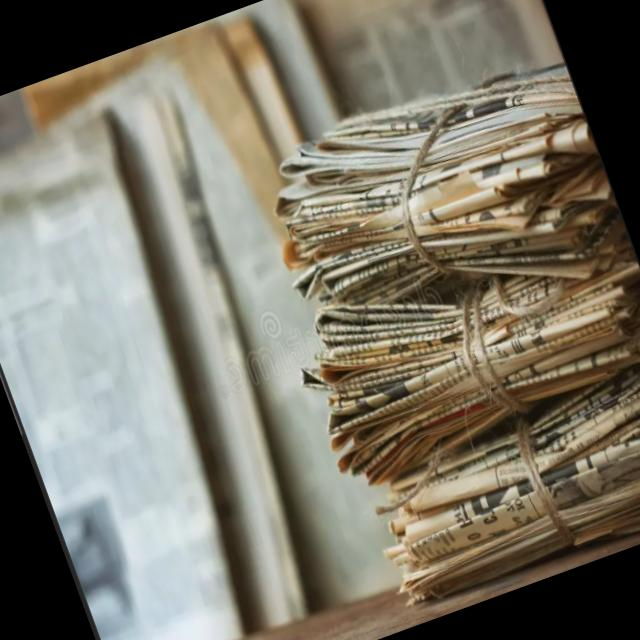Koran: (221, 38, 640, 626)
